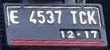plate: (7, 5, 103, 42)
